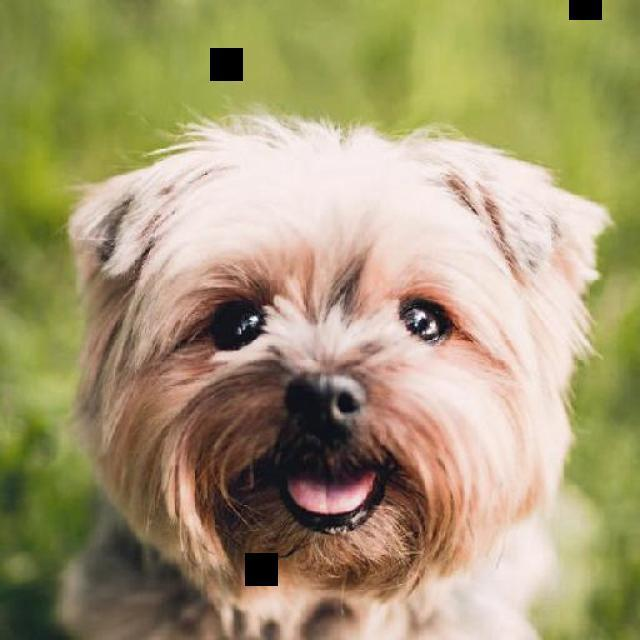adult_dog: (52, 111, 619, 640)
